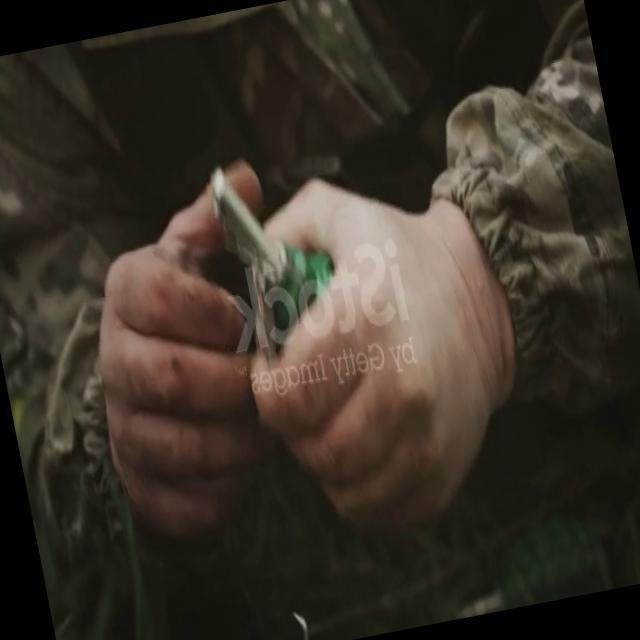grenade: (206, 150, 342, 366)
